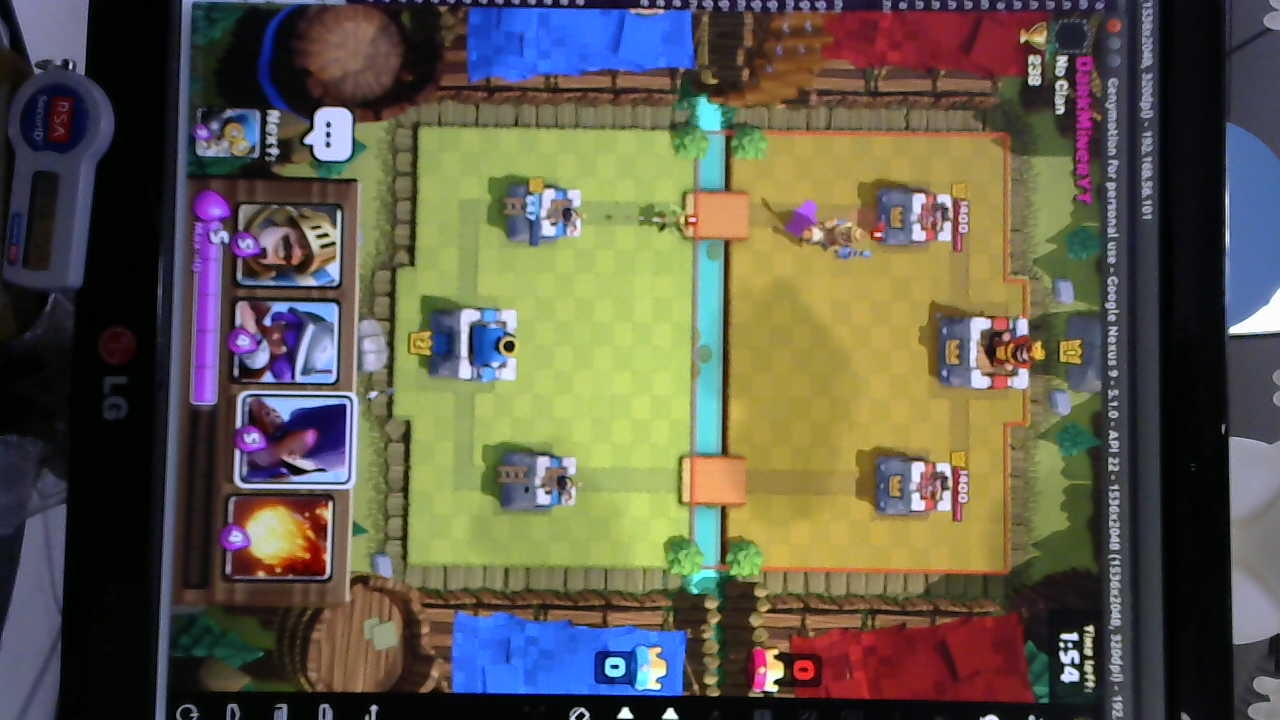arena: (499, 448, 581, 514), (504, 184, 582, 241)
earena: (870, 455, 953, 519), (872, 189, 955, 249)
eking: (931, 312, 1043, 387)
king: (423, 304, 522, 381)
prince: (796, 218, 874, 260)
speargoblin: (645, 204, 694, 234)
